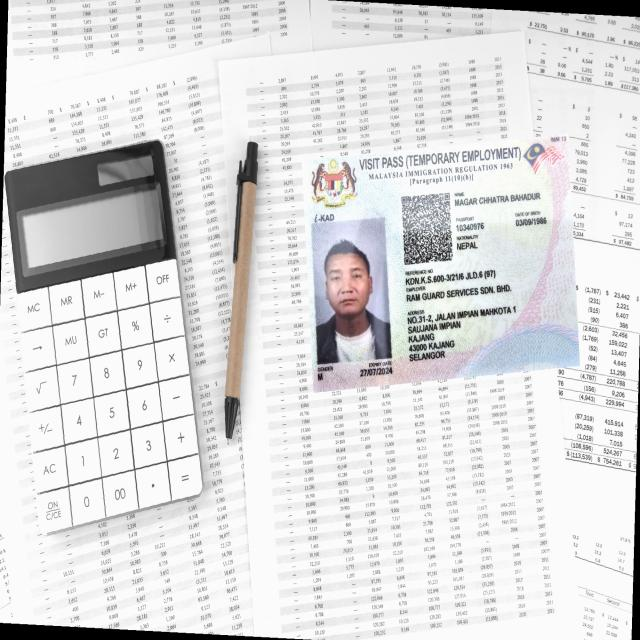ikad-temp: (301, 129, 579, 399)
